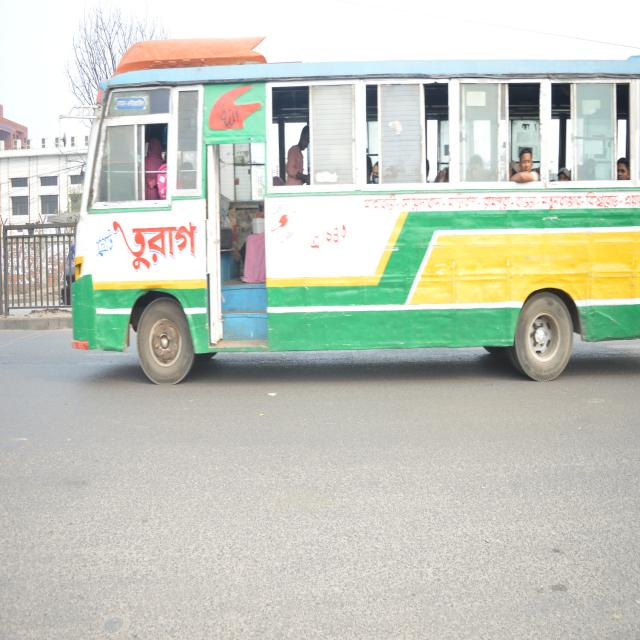bus: (52, 12, 640, 475)
